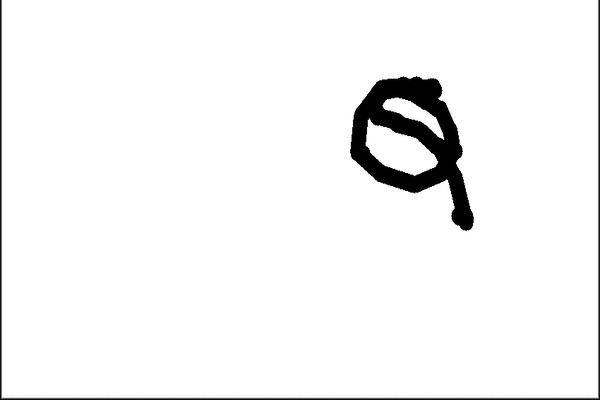Q: (333, 65, 484, 233)
